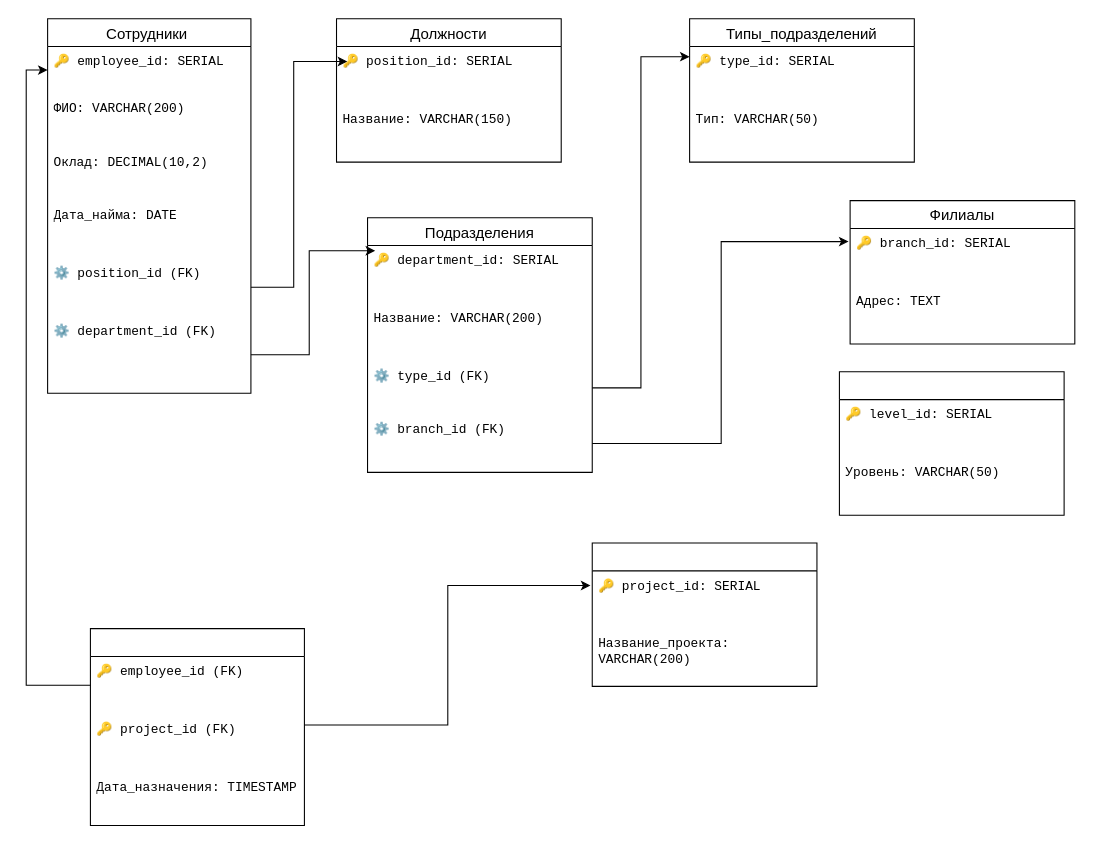
Image size: 1094x847. Some labels were removed from this diagram. Here are the shapes that lost their labels. From the top down, the box of each, then its label:
(838, 371, 1064, 515): Уровни_должностей
(591, 542, 817, 686): Проекты
(89, 628, 304, 826): Сотрудники_Проекты
